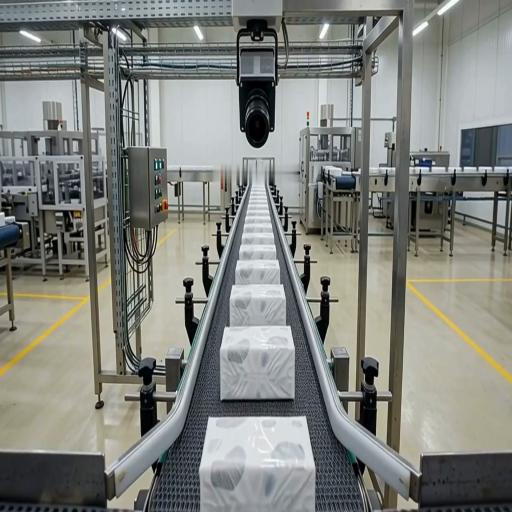good: (198, 415, 316, 512), (218, 325, 295, 402), (229, 284, 286, 327), (235, 258, 280, 286), (239, 244, 277, 259), (241, 231, 275, 244), (243, 221, 273, 232), (245, 215, 271, 222), (246, 209, 270, 215), (247, 203, 269, 209), (248, 199, 268, 203), (249, 195, 267, 199), (250, 191, 267, 195), (251, 184, 265, 188), (251, 188, 266, 191)
